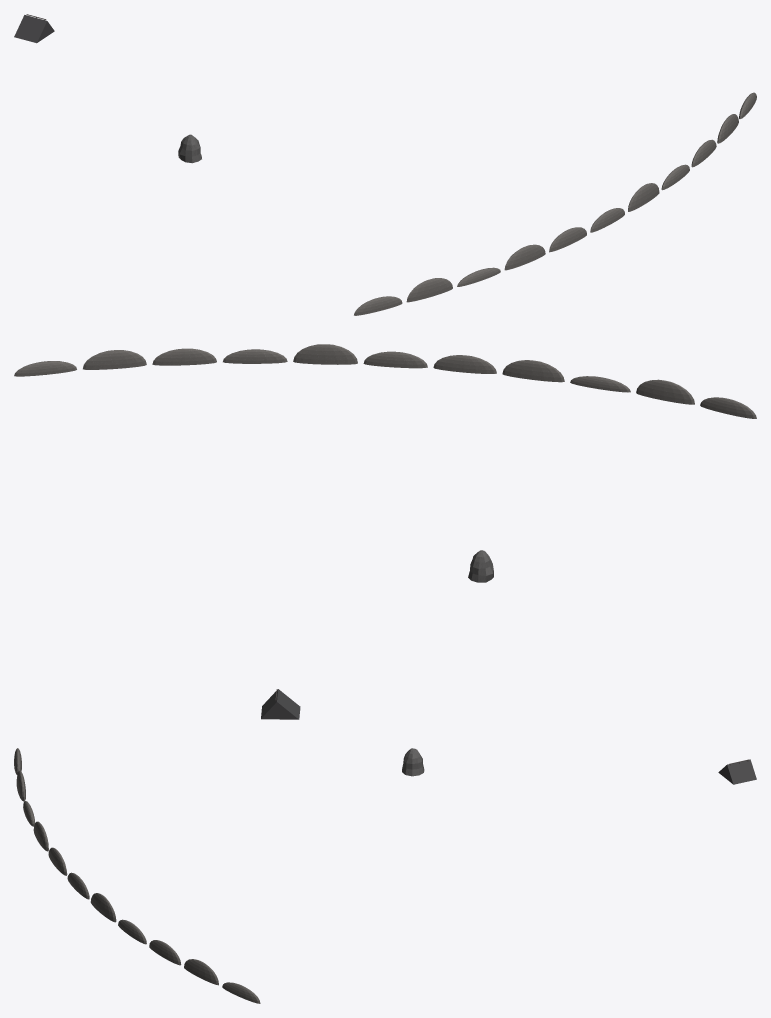
Rendered from SM_City_MukhayyamAlNiran_6.fbx.
3 renders of one model, top to bottom at view 1: azimuth 30°, elevation 25°; view 2: azimuth 150°, elevation 25°; view 3: azimuth 270°, elevation 25°, orthographic. The views are drawn at different scales.
Visible parts, largest first — view 1: SM_City_MukhayyamAlNiran_6; view 2: SM_City_MukhayyamAlNiran_6; view 3: SM_City_MukhayyamAlNiran_6.
Boxes of the visible parts, <box> form: SM_City_MukhayyamAlNiran_6: <box>14,14,756,315</box>; SM_City_MukhayyamAlNiran_6: <box>14,344,756,719</box>; SM_City_MukhayyamAlNiran_6: <box>14,748,756,1003</box>.
Bounding box in the file's own units: 8833 × 367 × 11040.
Materials: 4 (4 with a texture image).
